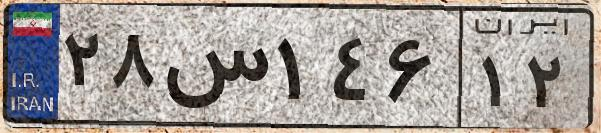1: (270, 28, 330, 110), (475, 38, 525, 113)
2: (57, 26, 110, 100), (525, 38, 570, 115)
4: (330, 28, 385, 110)
6: (385, 28, 445, 110)
8: (110, 28, 158, 98)
س: (158, 20, 270, 120)
